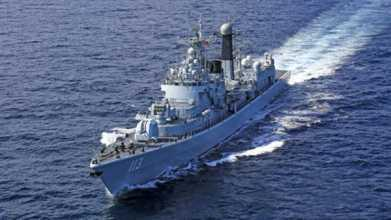warship: (90, 16, 297, 191)
